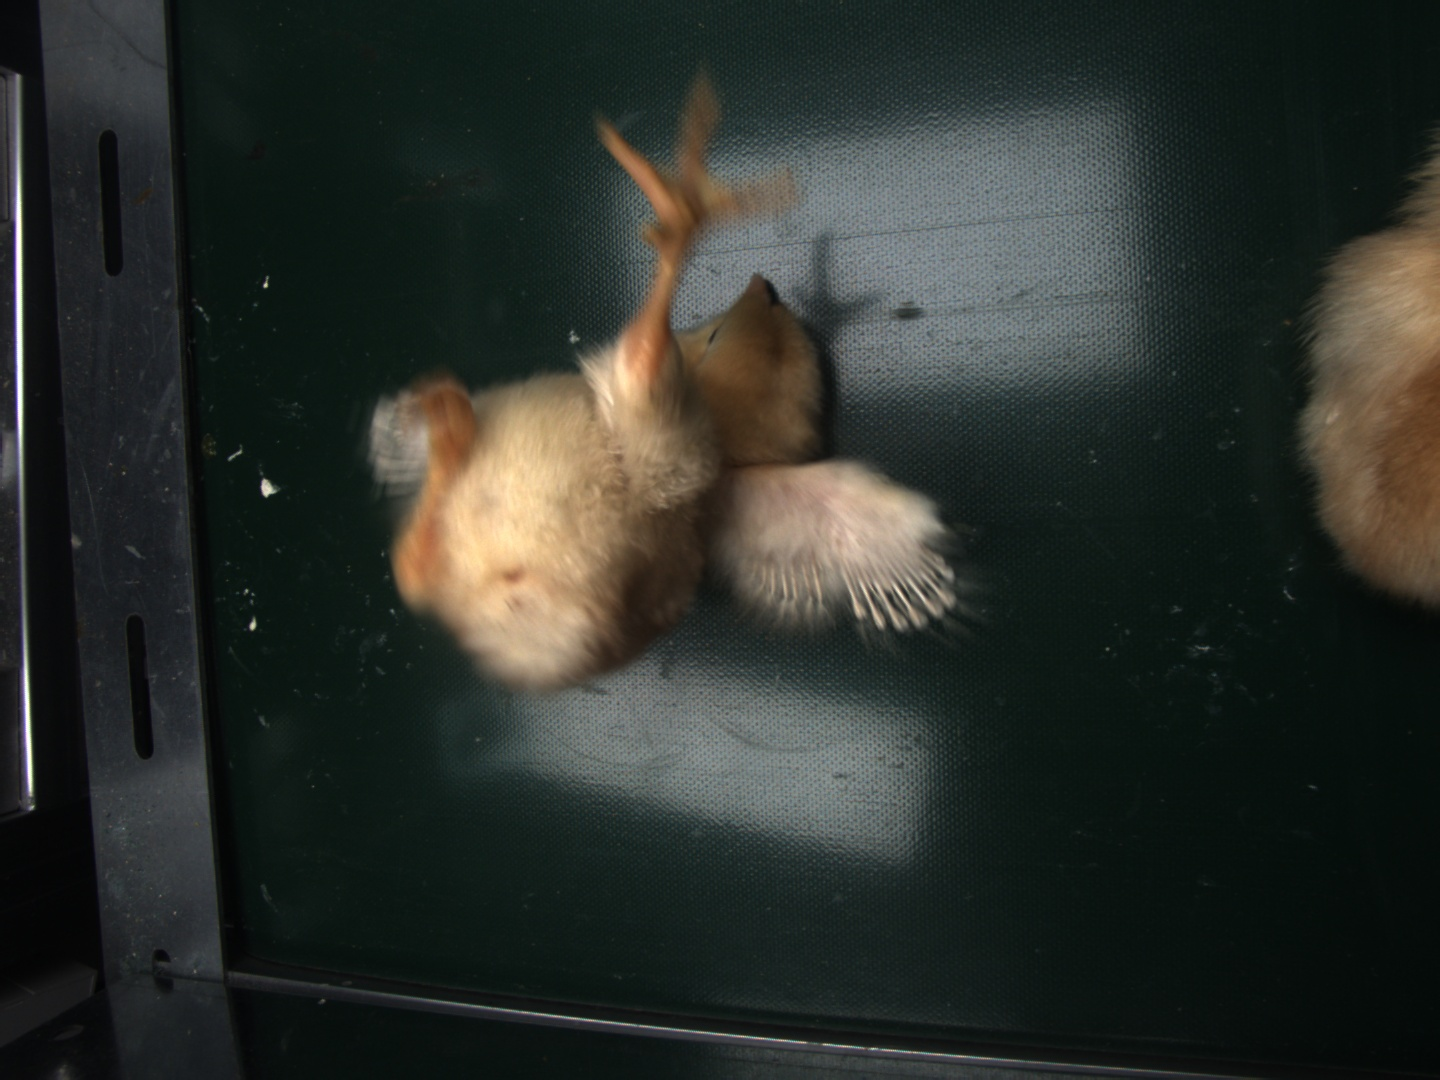female: (848, 552, 960, 634)
